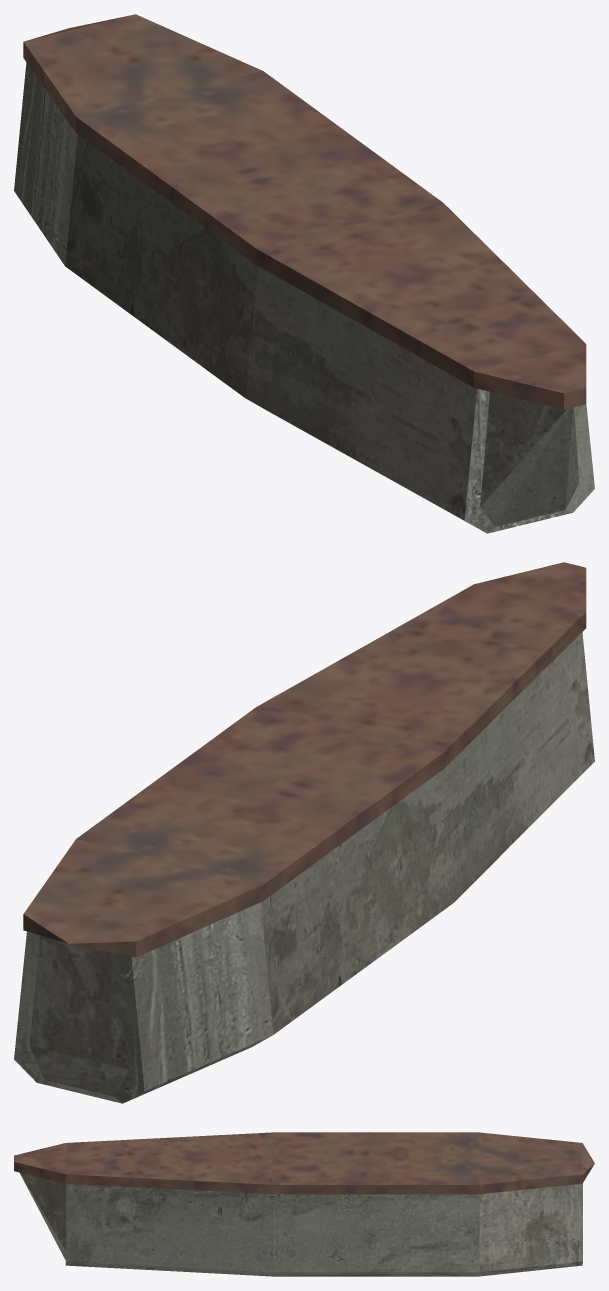
3 renders of one model, top to bottom at view 1: azimuth 30°, elevation 25°; view 2: azimuth 150°, elevation 25°; view 3: azimuth 270°, elevation 25°, orthographic. The views are drawn at different scales.
Parts seen in each view (by area): view 1: SubLid, Sub; view 2: SubLid, Sub; view 3: Sub, SubLid.
Boxes of the visible parts, bbox=[...] form: SubLid: bbox=[23, 14, 586, 409]; Sub: bbox=[14, 62, 594, 533]; SubLid: bbox=[23, 562, 586, 957]; Sub: bbox=[14, 632, 594, 1103]; Sub: bbox=[20, 1172, 582, 1276]; SubLid: bbox=[14, 1132, 594, 1194].
Bounding box in the file's own units: 2248 × 534 × 405.
